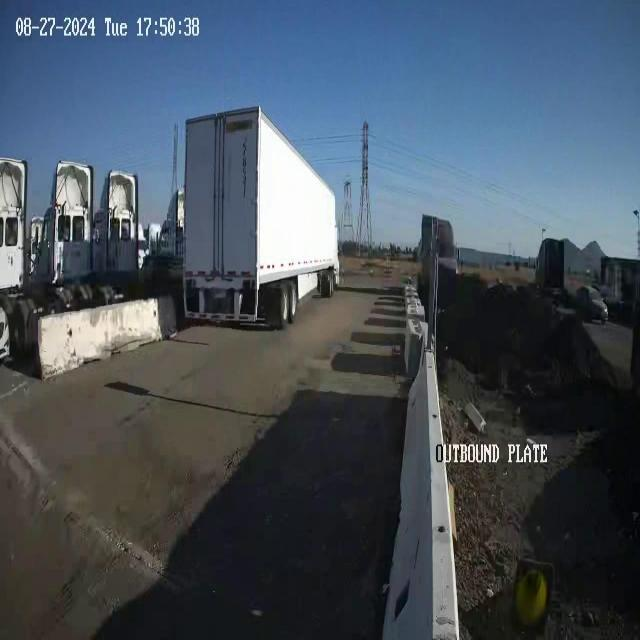TRUCK_IN: (182, 104, 340, 328)
